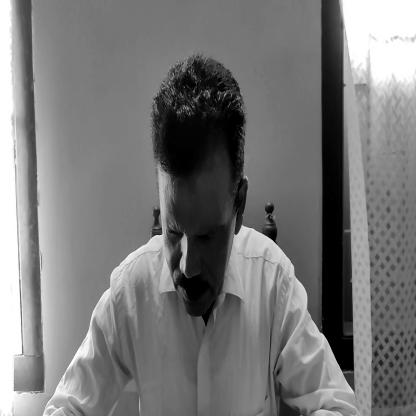Distracted: (154, 59, 250, 312)
